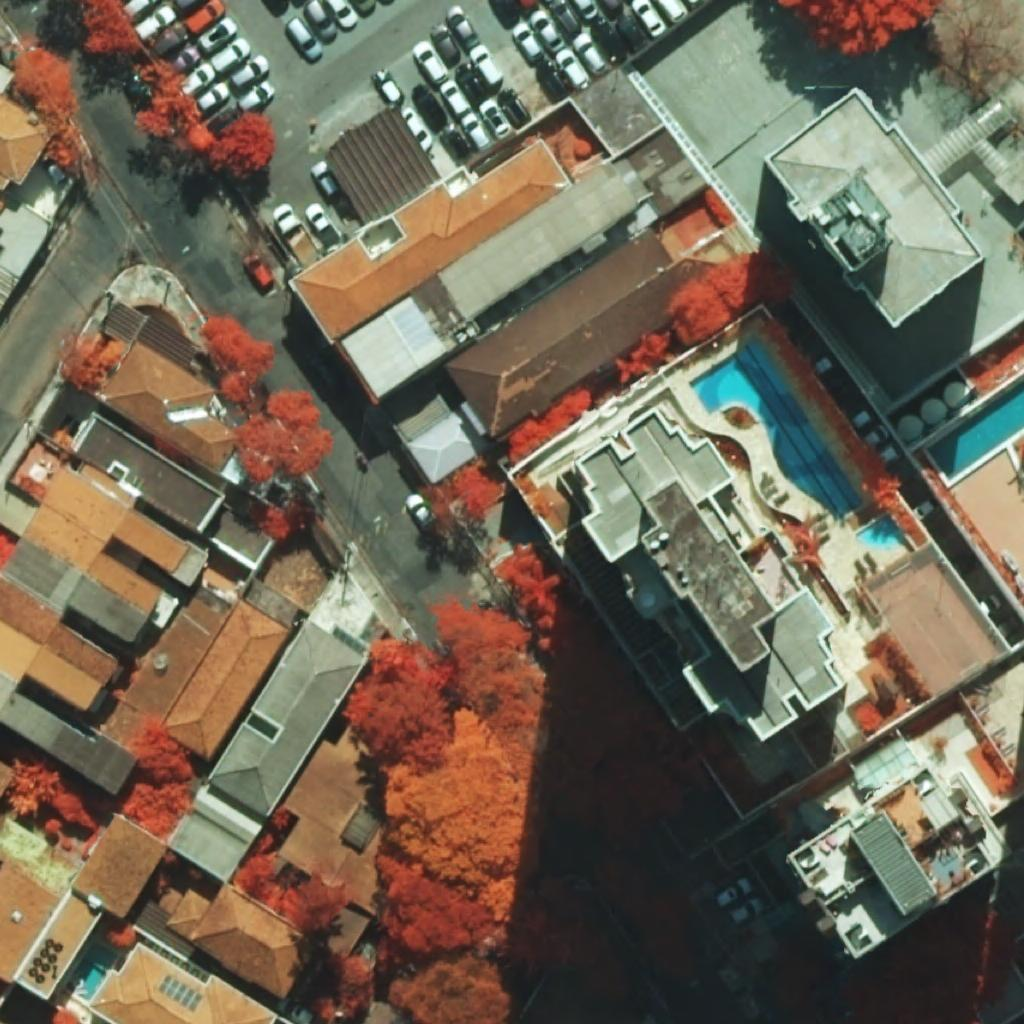pool: (689, 339, 863, 521), (927, 380, 1024, 481), (70, 941, 118, 1001), (855, 514, 905, 548)
